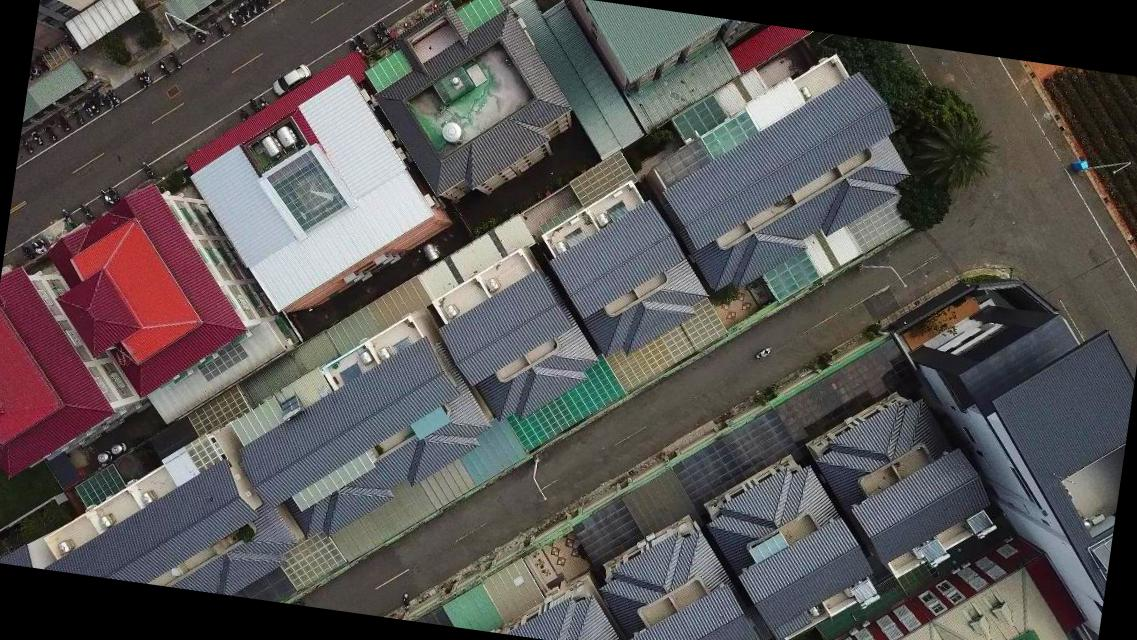vehicle: (268, 60, 313, 100)
